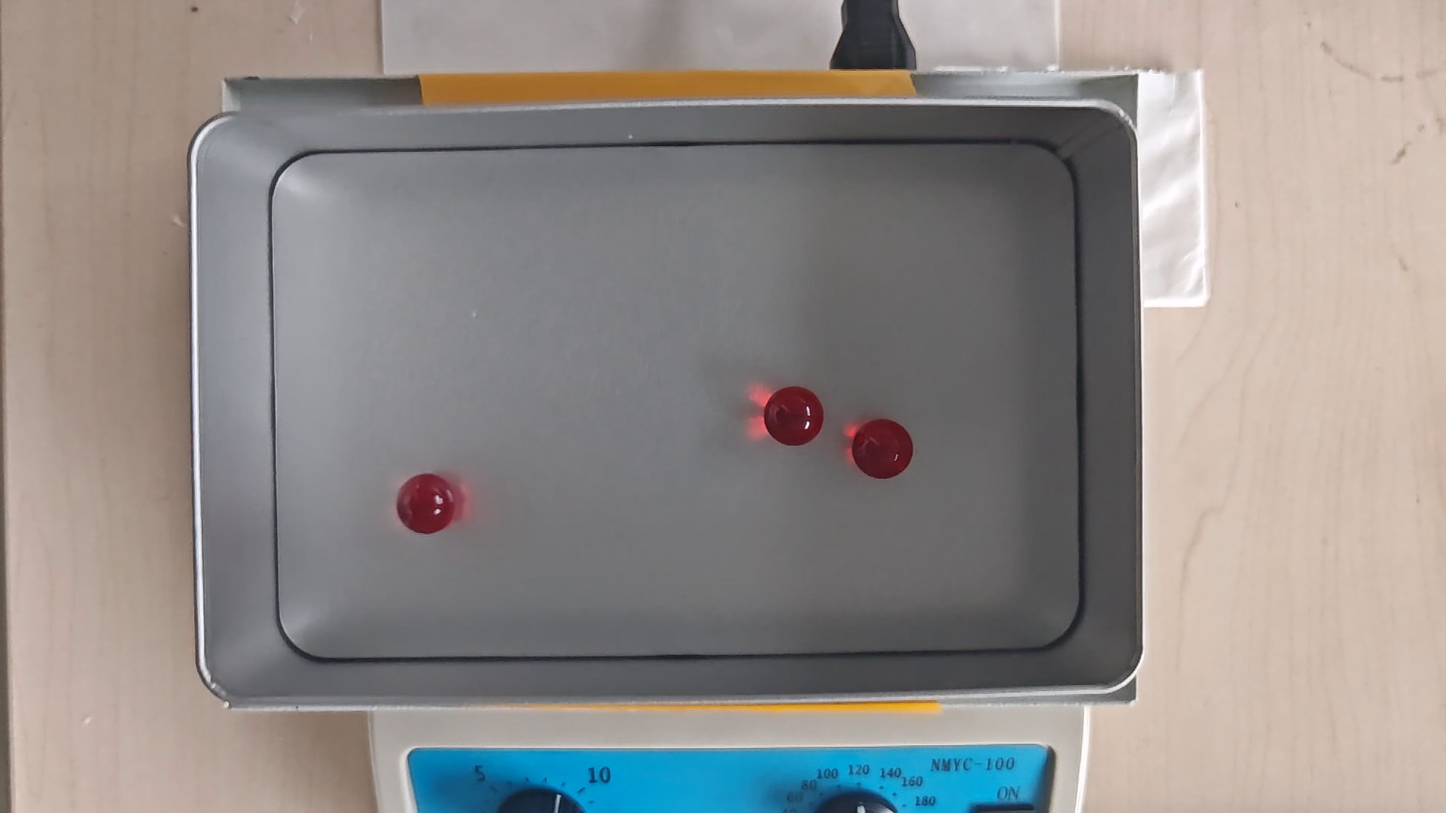ball: (765, 385, 825, 447), (853, 416, 911, 480), (397, 475, 455, 535)
container: (273, 143, 1080, 657)
